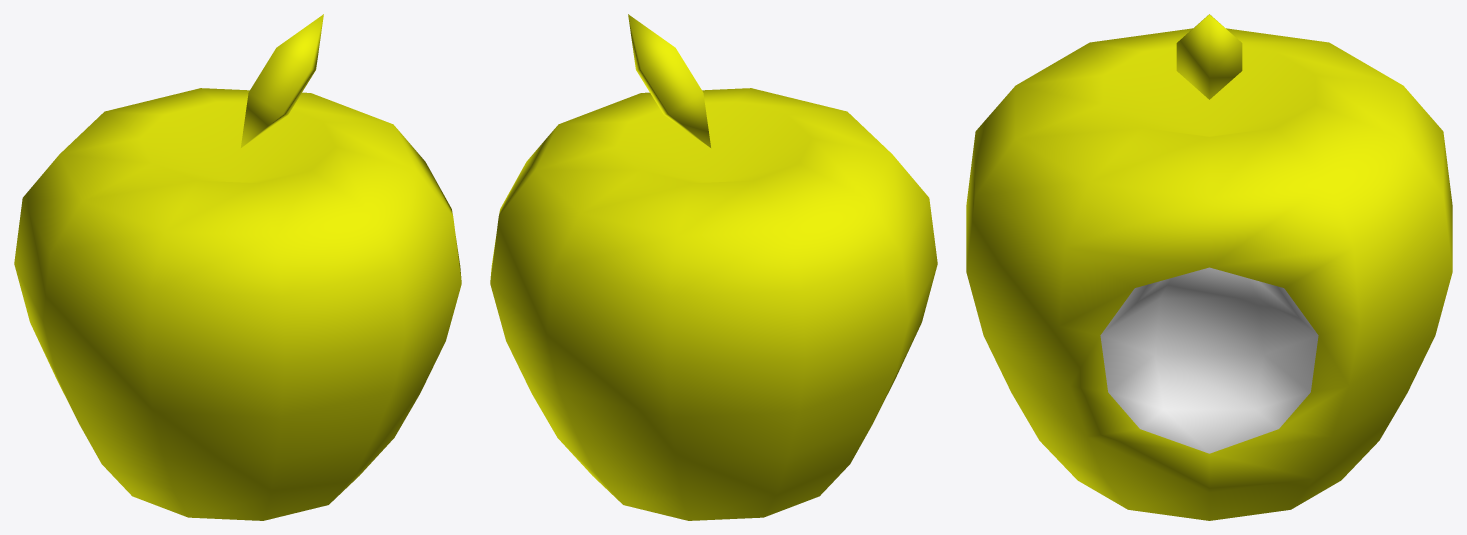
Rendered from apple_or.dae.
The picture shows the model from 3 angles, left to right: view 1: azimuth 30°, elevation 25°; view 2: azimuth 150°, elevation 25°; view 3: azimuth 270°, elevation 25°; orthographic projection. The views are drawn at different scales.
Visible parts, largest first — view 1: apple_or; view 2: apple_or; view 3: apple_or.
Boxes of the visible parts, left/top/right/bottom form: apple_or: left=14, top=14, right=461, bottom=520; apple_or: left=490, top=14, right=937, bottom=520; apple_or: left=966, top=14, right=1452, bottom=520.
Bounding box in the file's own units: 1.37 × 1.33 × 1.49.
